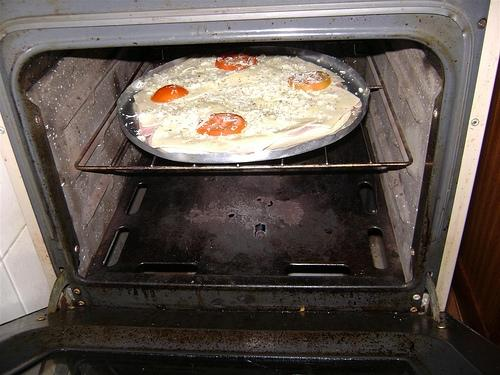tomato: (196, 113, 246, 136), (288, 72, 331, 92), (216, 54, 258, 70), (151, 84, 188, 102)
